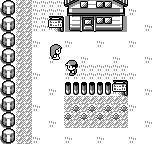leer: (48, 15, 64, 31), (113, 79, 128, 96)
main: (65, 60, 78, 76)
no-caminable: (1, 0, 17, 144), (64, 0, 128, 32), (65, 82, 111, 95)
npc: (50, 44, 62, 61)
puerta: (83, 17, 94, 31)
